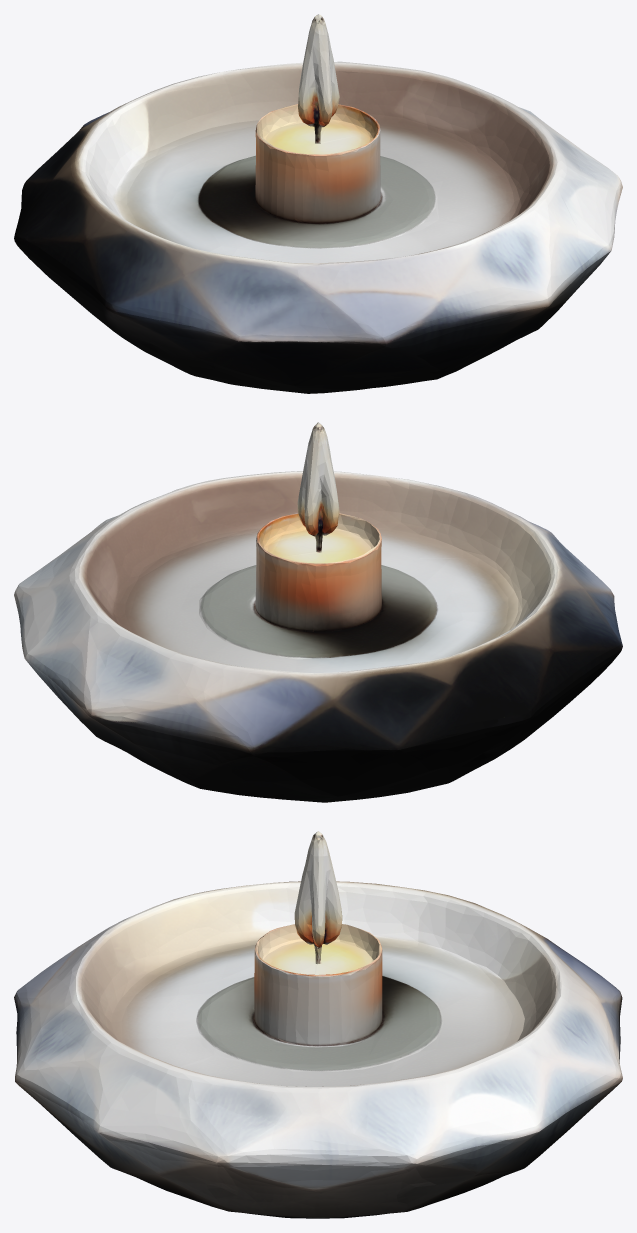
Rendered from porcelain-candle-stand-futuristic.jpeg.glb.
3 renders of one model, top to bottom at view 1: azimuth 30°, elevation 25°; view 2: azimuth 150°, elevation 25°; view 3: azimuth 270°, elevation 25°, orthographic. The views are drawn at different scales.
Parts seen in each view (by area): view 1: world; view 2: world; view 3: world.
Boxes of the visible parts, <box> form: world: <box>14,14,622,393</box>; world: <box>14,422,622,802</box>; world: <box>14,831,622,1218</box>.
Bounding box in the file's own units: 0.9783 × 0.6079 × 0.9776.
Materials: 1 (1 with a texture image).
